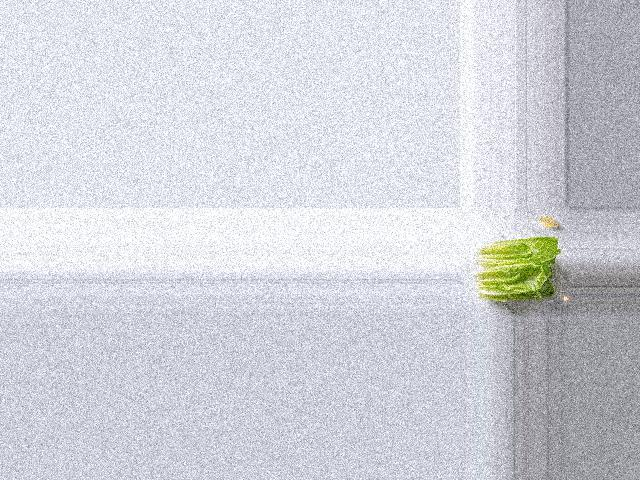lettuce: (474, 233, 561, 304)
